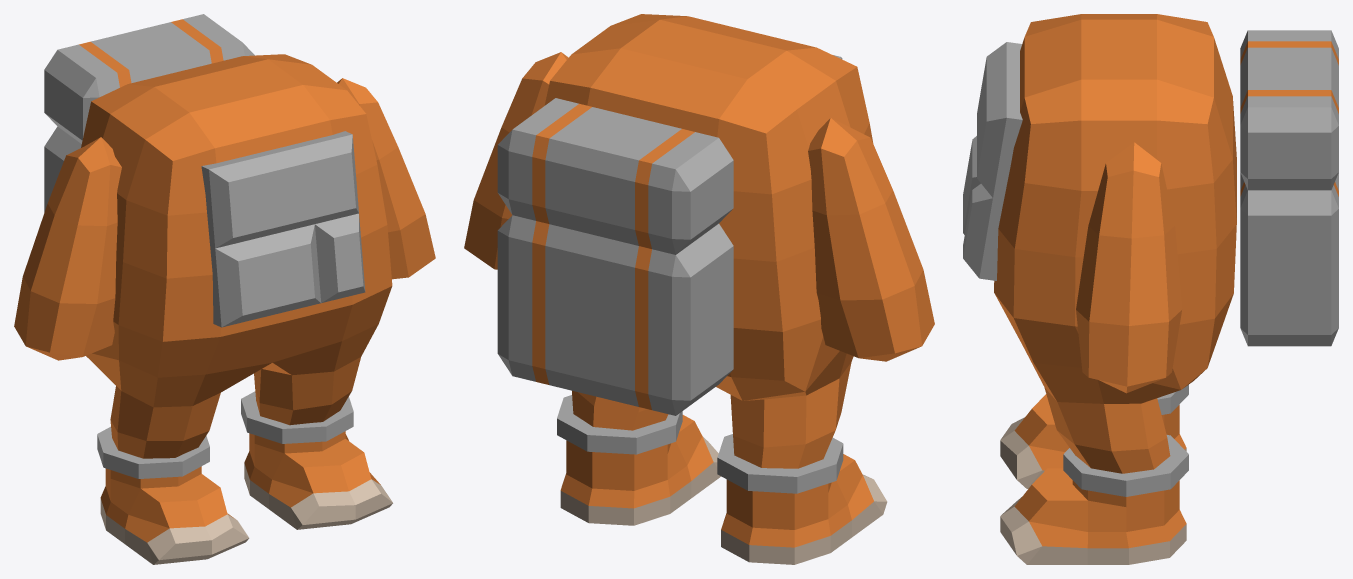
The model's file is Body.fbx.
3 views of the same model, side by side, from view 1: azimuth 30°, elevation 25°; view 2: azimuth 150°, elevation 25°; view 3: azimuth 270°, elevation 25° (orthographic). The views are drawn at different scales.
Parts seen in each view (by area): view 1: Body, MachineF, Arm_R, Shoes_L, Shoes_R, MachineR, Arm_L; view 2: MachineR, Body, Arm_R, Shoes_R, Shoes_L, Arm_L; view 3: Body, MachineR, Arm_L, Shoes_L, MachineF, Shoes_R.
Boxes of the visible parts, box(x1,y1,x2,y2) form: Body: box(81, 54, 392, 458); MachineF: box(201, 131, 365, 327); Arm_R: box(14, 137, 121, 360); Shoes_L: box(241, 391, 392, 529); Shoes_R: box(97, 426, 249, 564); MachineR: box(44, 14, 254, 212); Arm_L: box(337, 78, 435, 279); MachineR: box(497, 98, 733, 415); Body: box(544, 14, 873, 468); Arm_R: box(808, 118, 934, 361); Shoes_R: box(717, 434, 887, 564); Shoes_L: box(557, 395, 720, 525); Arm_L: box(464, 52, 568, 269); Body: box(994, 14, 1236, 473); MachineR: box(1240, 30, 1338, 346); Arm_L: box(1076, 142, 1182, 393); Shoes_L: box(1000, 435, 1188, 564); MachineF: box(963, 42, 1022, 280); Shoes_R: box(1000, 384, 1188, 488).
Bounding box in the file's own units: 54.1 × 54.31 × 40.85.
